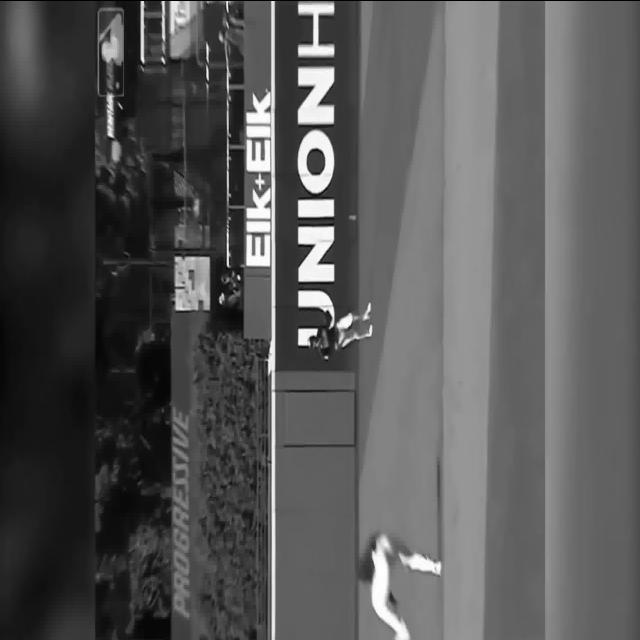shoe: (434, 560, 442, 576), (365, 302, 371, 320), (368, 324, 372, 337)
